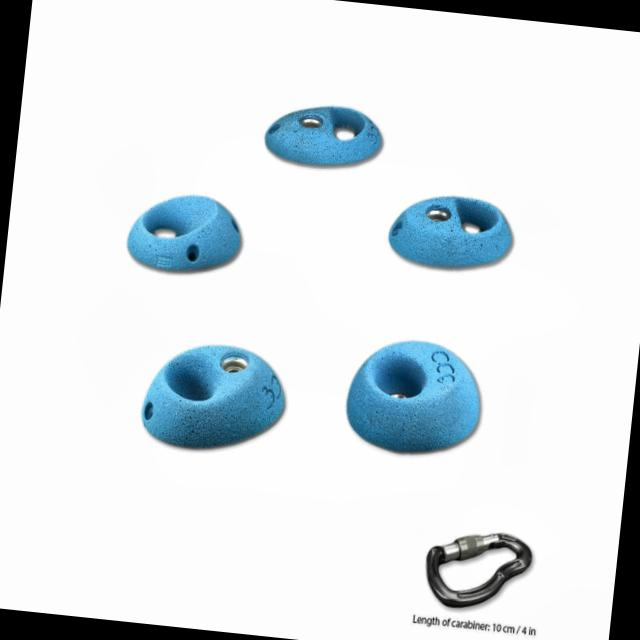Hold: (136, 338, 292, 464), (344, 332, 488, 461), (121, 186, 252, 282), (384, 186, 516, 276), (262, 96, 386, 176)
